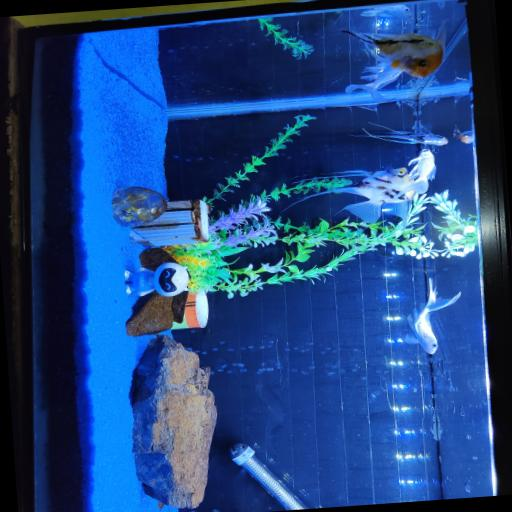Fish: (285, 168, 412, 224), (342, 28, 443, 78), (405, 279, 459, 354), (352, 123, 447, 145), (345, 63, 400, 100), (398, 149, 435, 195), (360, 5, 412, 18), (453, 127, 473, 143)
